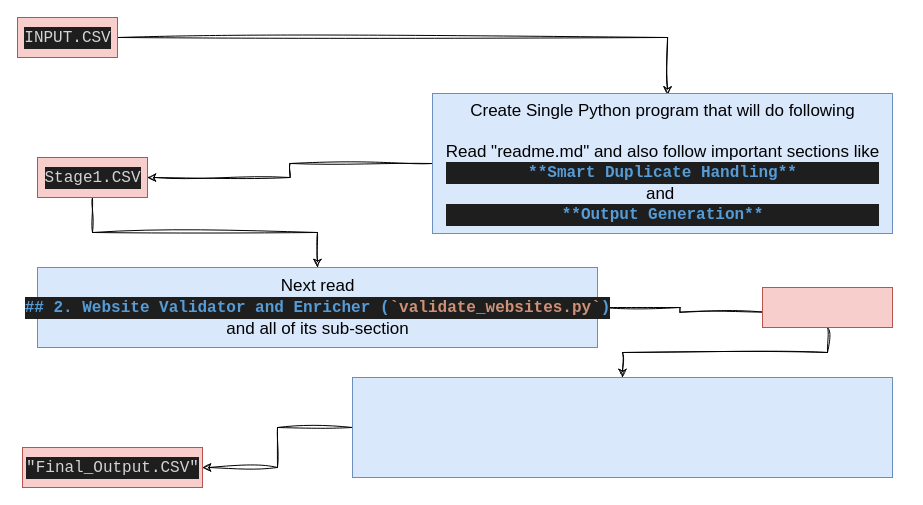
Some shapes in this 923 by 505 pixel diagram are drawn without their labels. Each missing label, with the centre of its shape:
"Stage2.CSV": point 827,307
NEXT Read ## 4. Combine everything and make final summary this way...: point 622,427
